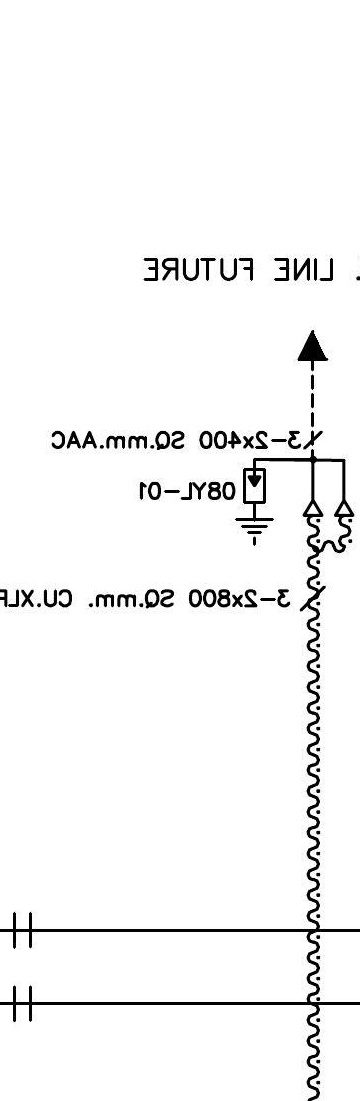115_buffer: (13, 912, 32, 949), (13, 985, 32, 1022)
115_la: (234, 467, 275, 547)
terminator_double: (301, 457, 355, 518)
